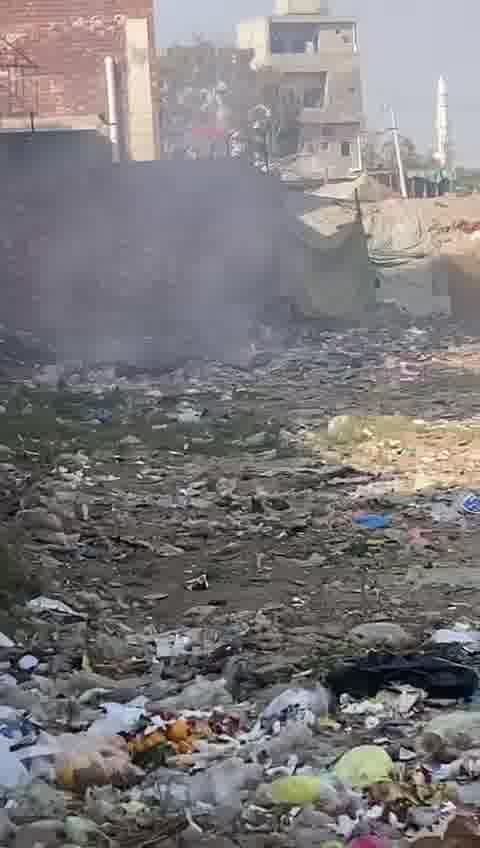garbage: (1, 326, 480, 848)
